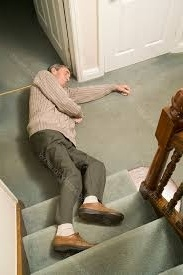fall: (20, 51, 131, 261)
